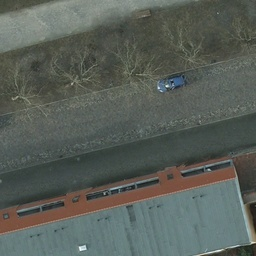car: (157, 73, 188, 92)
